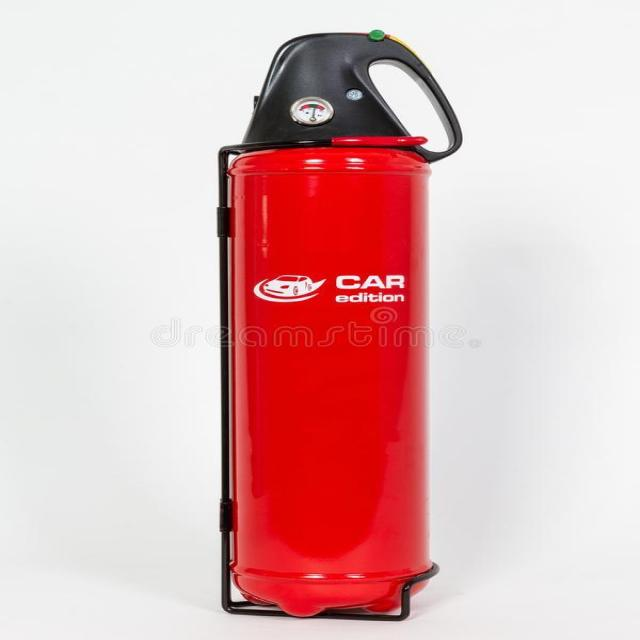fire_extinguisher: (212, 26, 473, 622)
